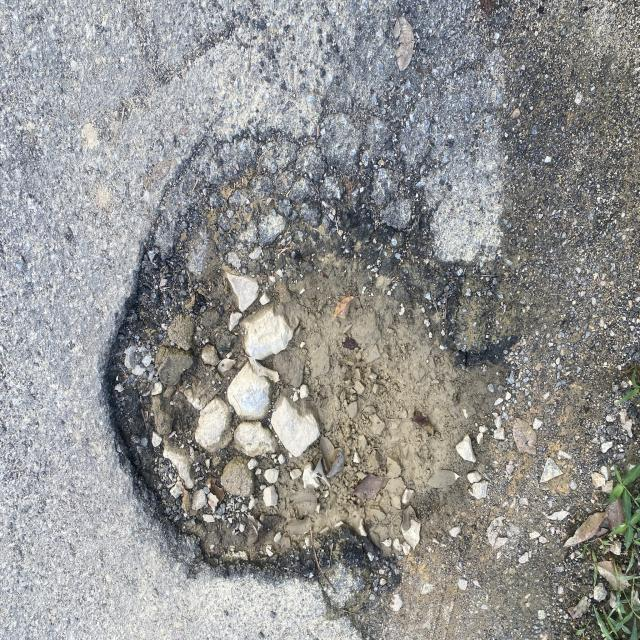Pothole: (96, 128, 376, 640)
